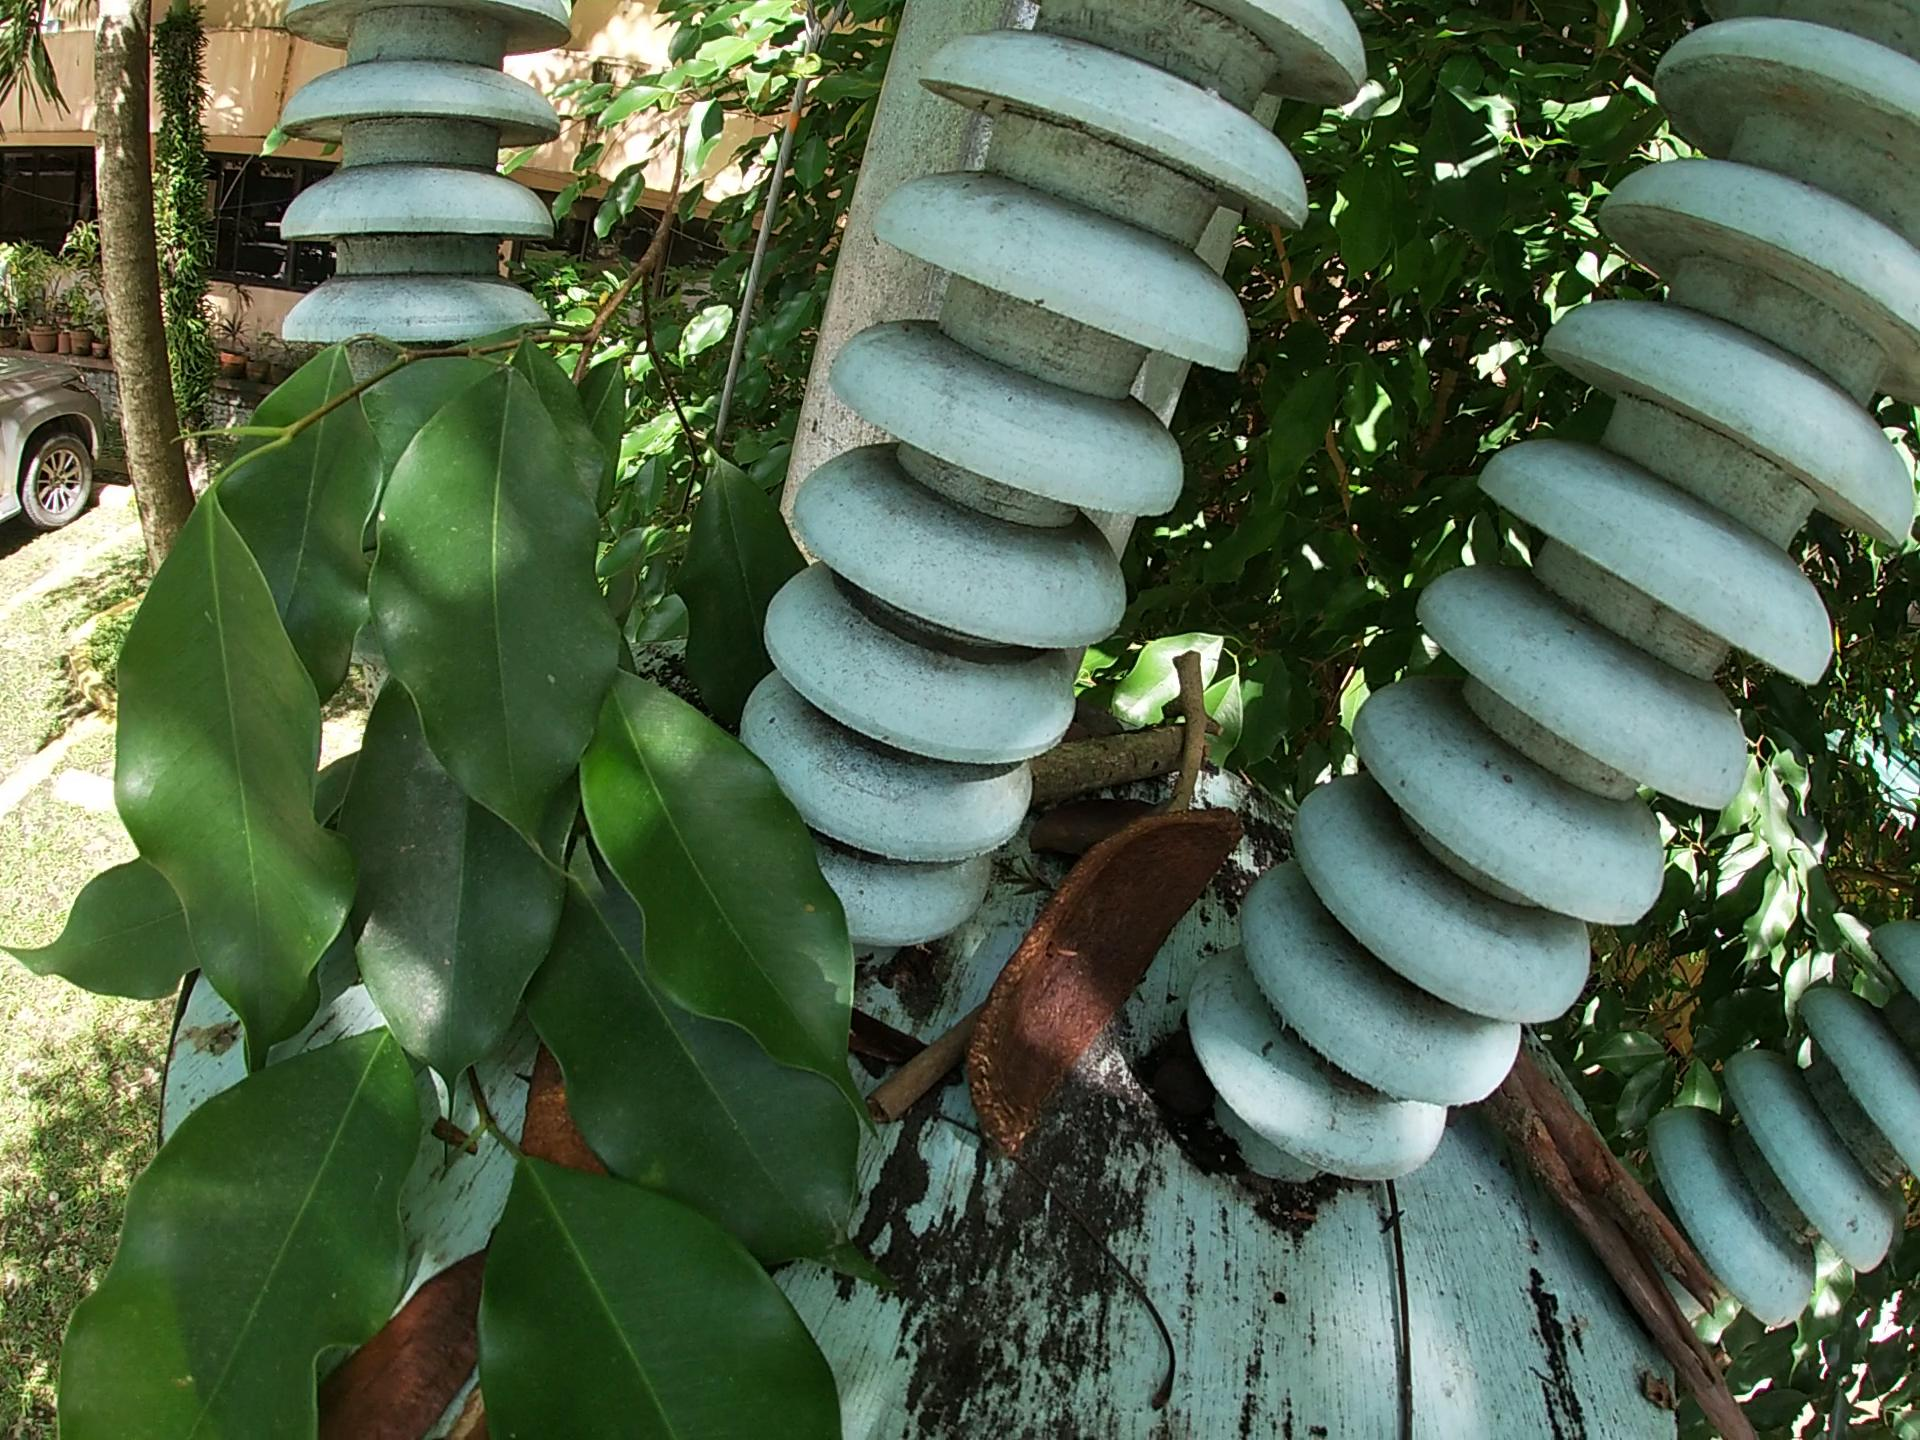branch with leaves: (17, 73, 906, 1437)
leaf: (493, 1030, 584, 1187)
mahogany fruit: (987, 802, 1253, 1178), (293, 1234, 481, 1437), (317, 1242, 497, 1440)
tree branch: (1477, 1003, 1788, 1437), (1033, 1184, 1193, 1429), (999, 725, 1215, 808), (1160, 643, 1226, 833), (884, 1004, 966, 1156), (1383, 1168, 1429, 1440)
